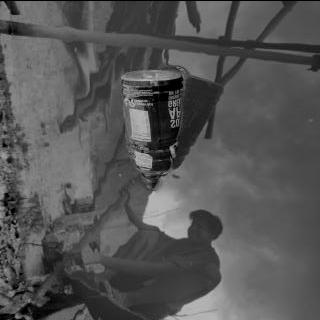bottle: (118, 67, 186, 191)
